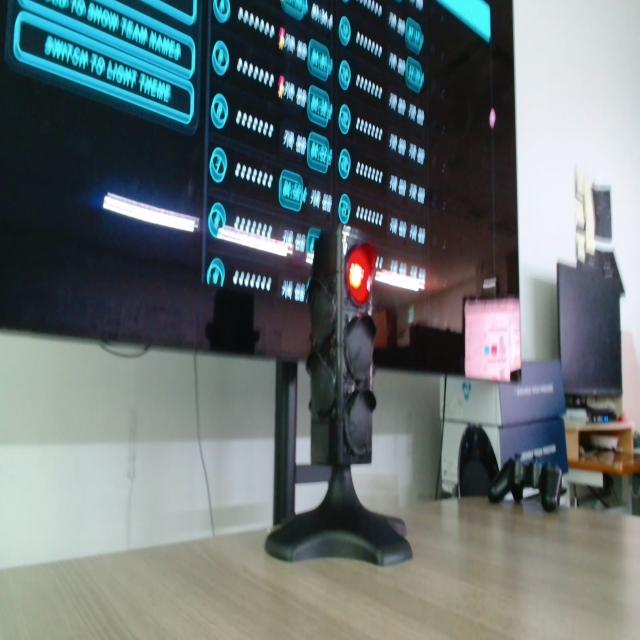red_light: (346, 244, 376, 305), (349, 263, 364, 289)
